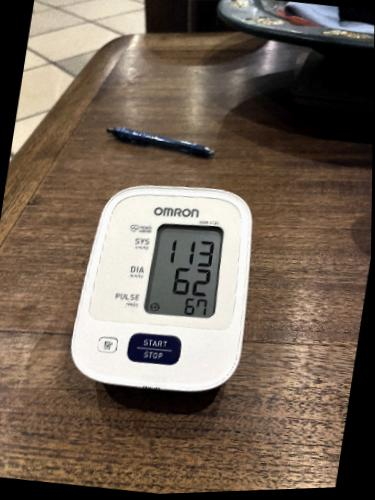bpm: (143, 219, 224, 320)
